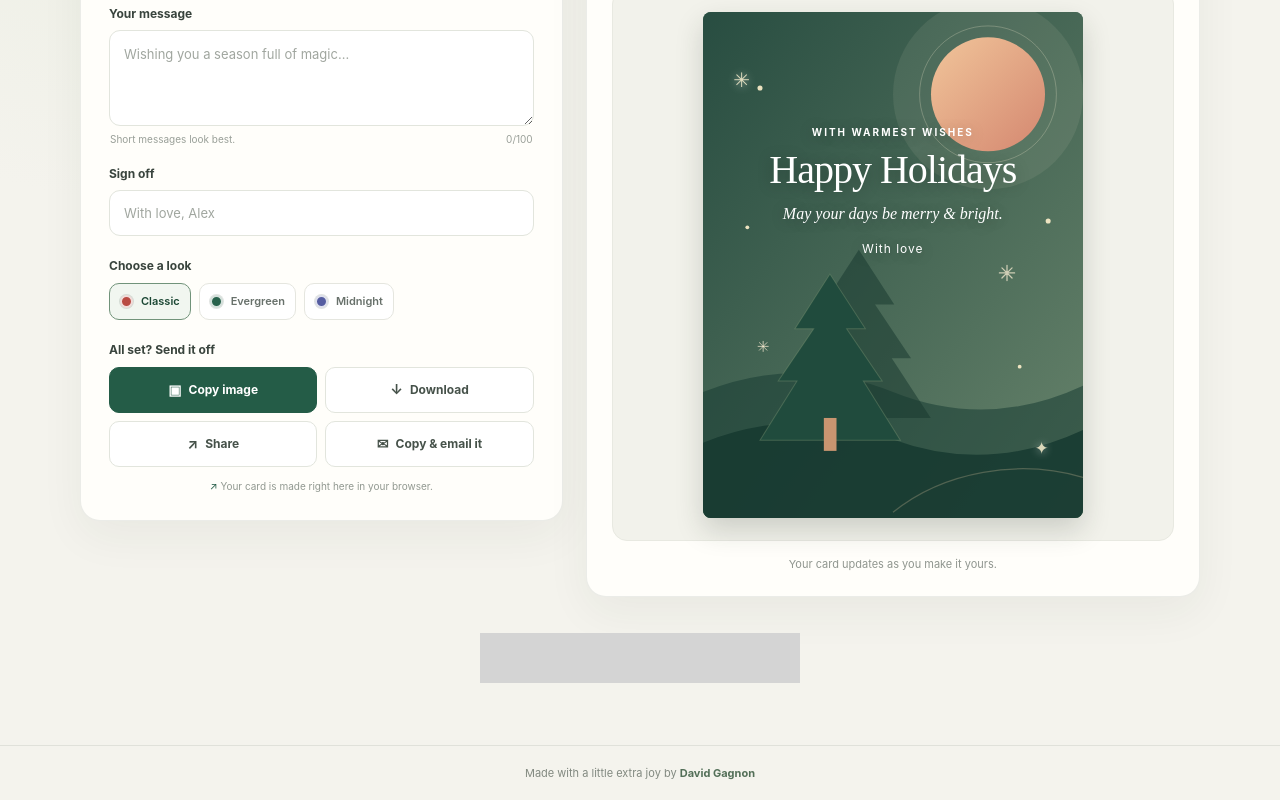
Test: copy & email still opens the mail tab when image copying is unsupported
(page scrolled)
Click the button with class "email-action" at (429, 444), box [325,421,534,467]
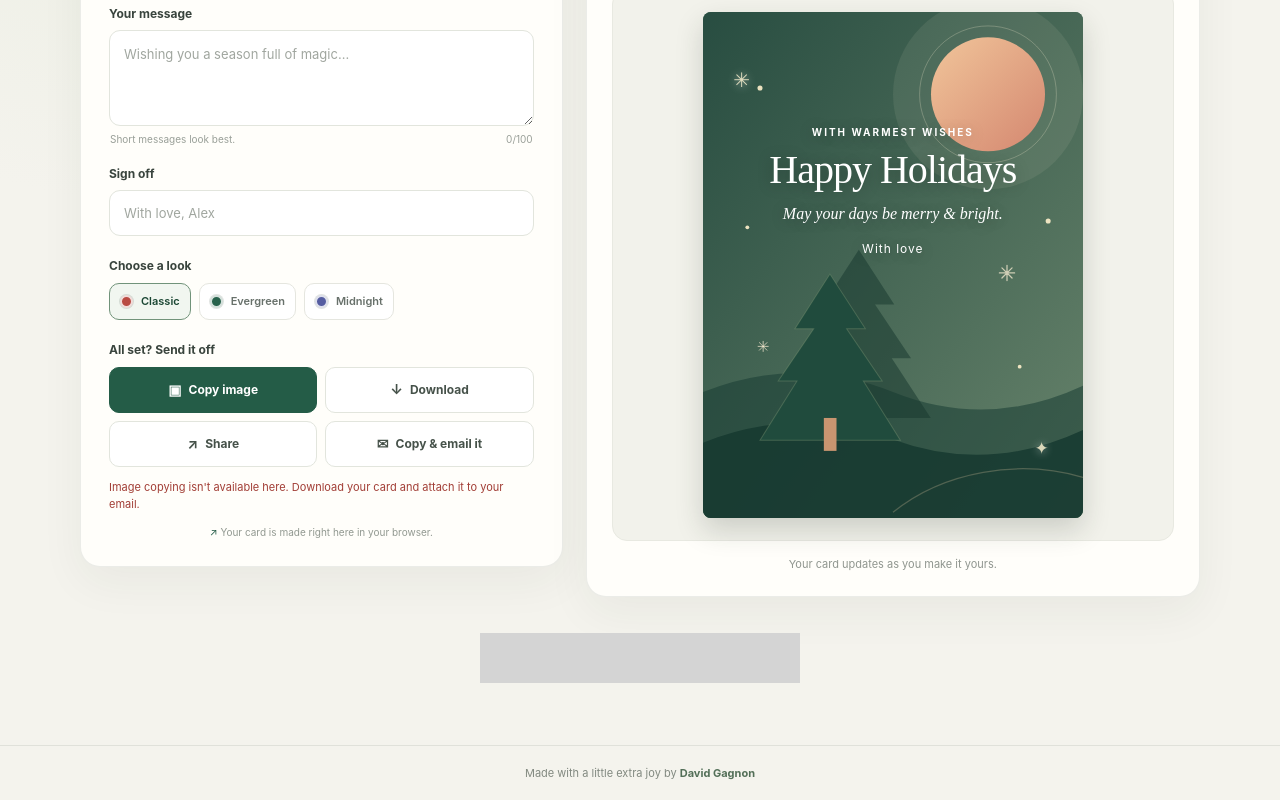
Result: the message shows "attach it to your email" at [109,480,504,511]
